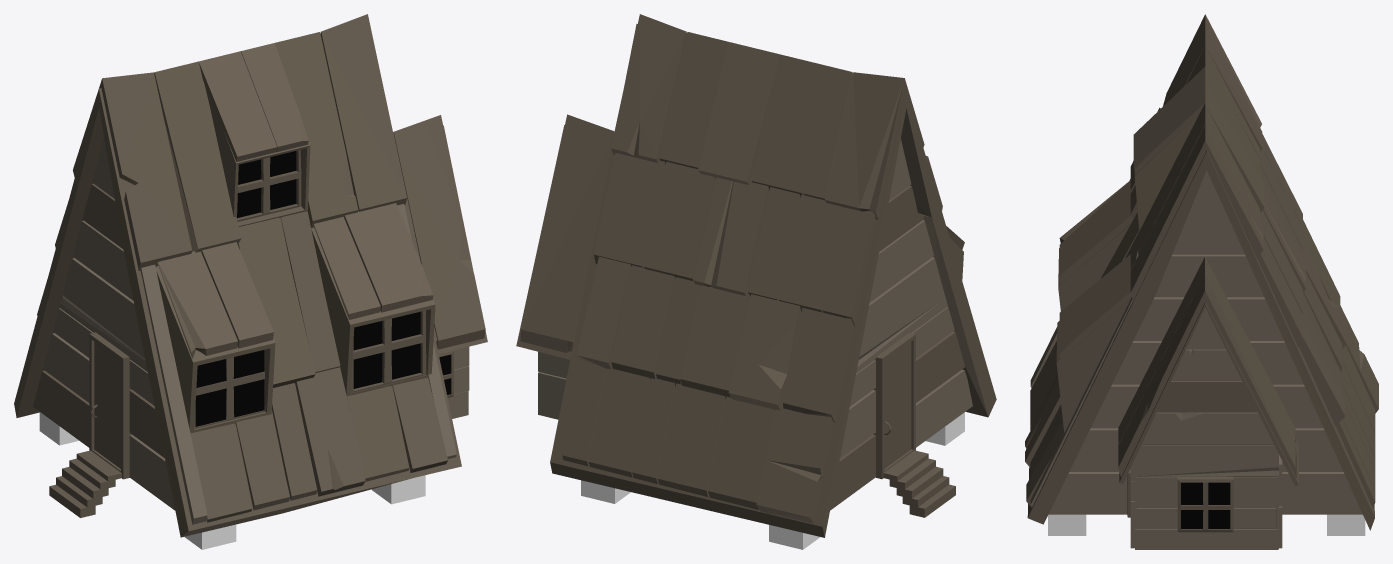
Rendered from House_02.glb.
3 renders of one model, left to right at view 1: azimuth 30°, elevation 25°; view 2: azimuth 150°, elevation 25°; view 3: azimuth 270°, elevation 25°, orthographic. The views are drawn at different scales.
Parts seen in each view (by area): view 1: HOUSE2; view 2: HOUSE2; view 3: HOUSE2.
Part boxes in pixels (bbox=[...]): HOUSE2: bbox=[14, 14, 487, 549]; HOUSE2: bbox=[516, 14, 996, 549]; HOUSE2: bbox=[1025, 14, 1378, 549].
Size of the model in its own units: 8.01 by 8.51 by 6.67.
1 material, 1 textured.
